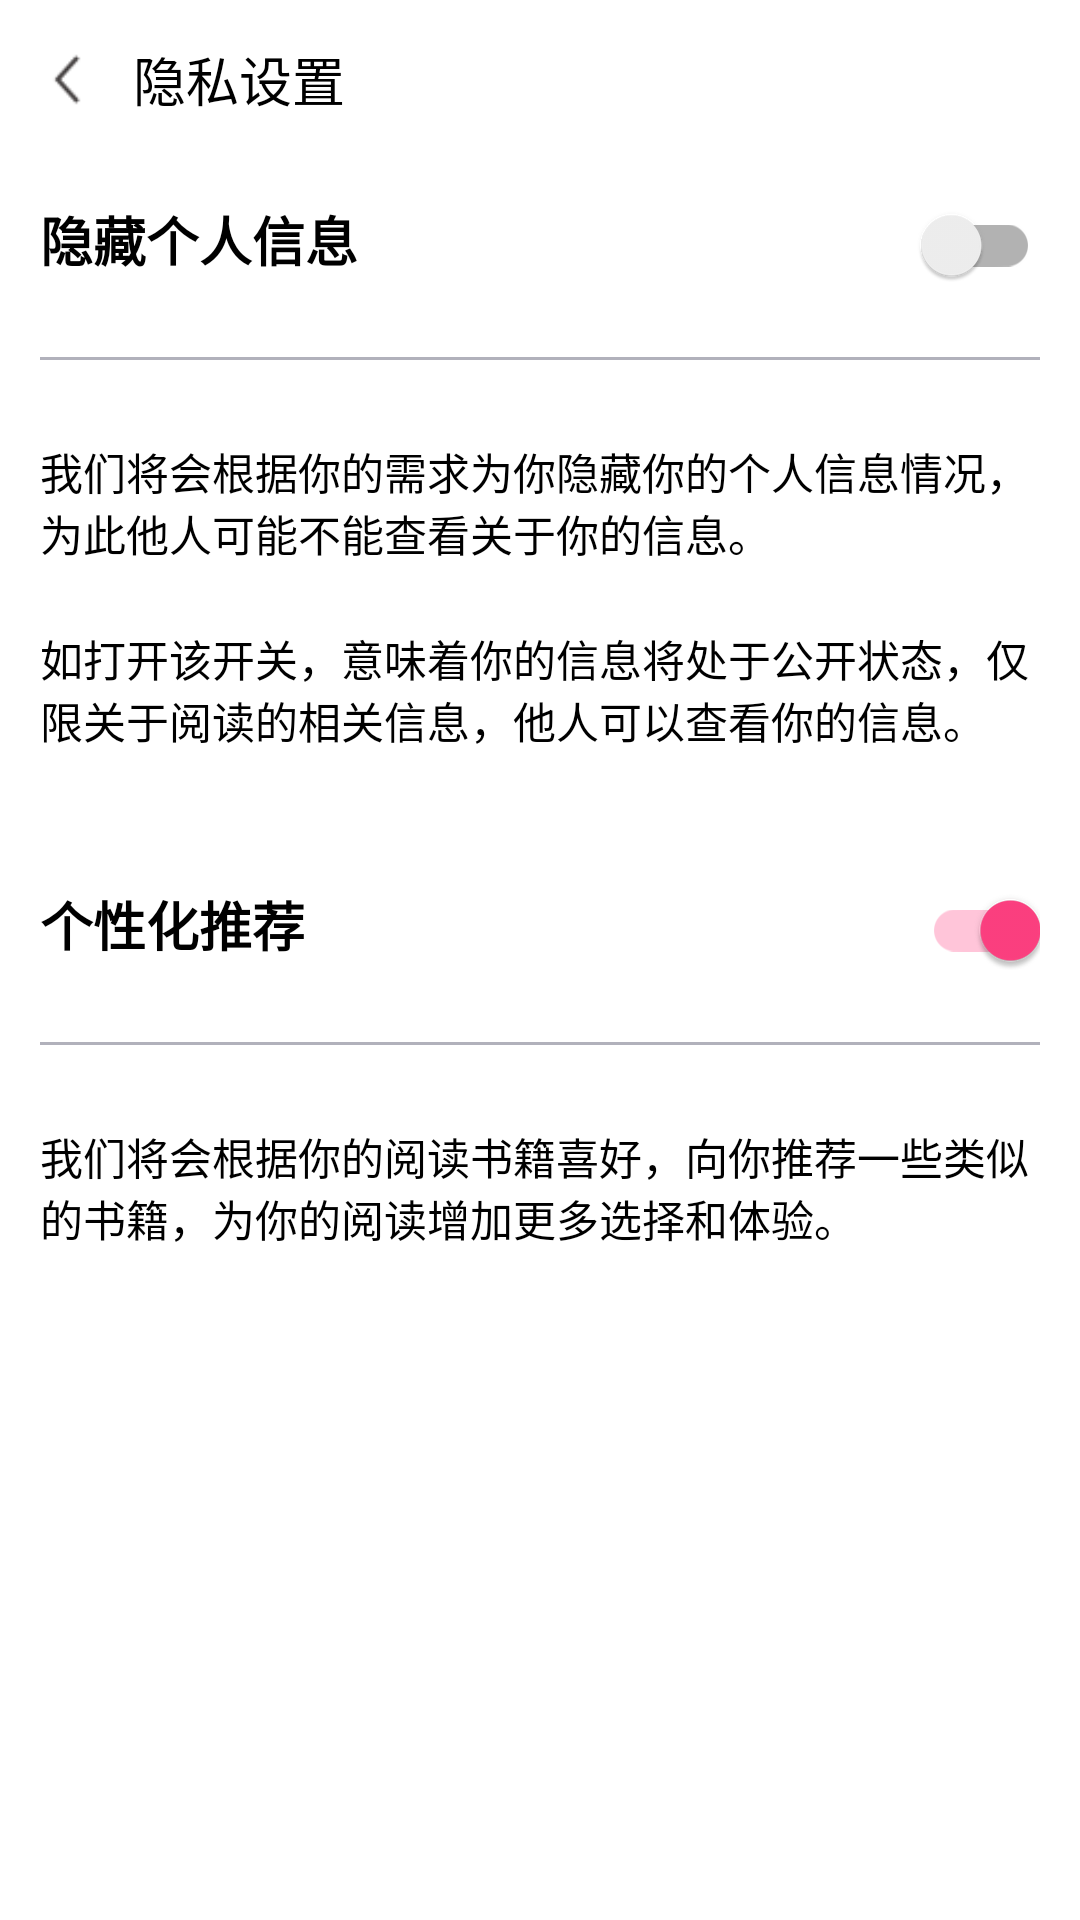

Locate icon controls on the screen. Image size 1080x1920, boxes as [left=x1, top=y1, right=x2, bottom=y2].
返回: [left=55, top=55, right=80, bottom=104]
